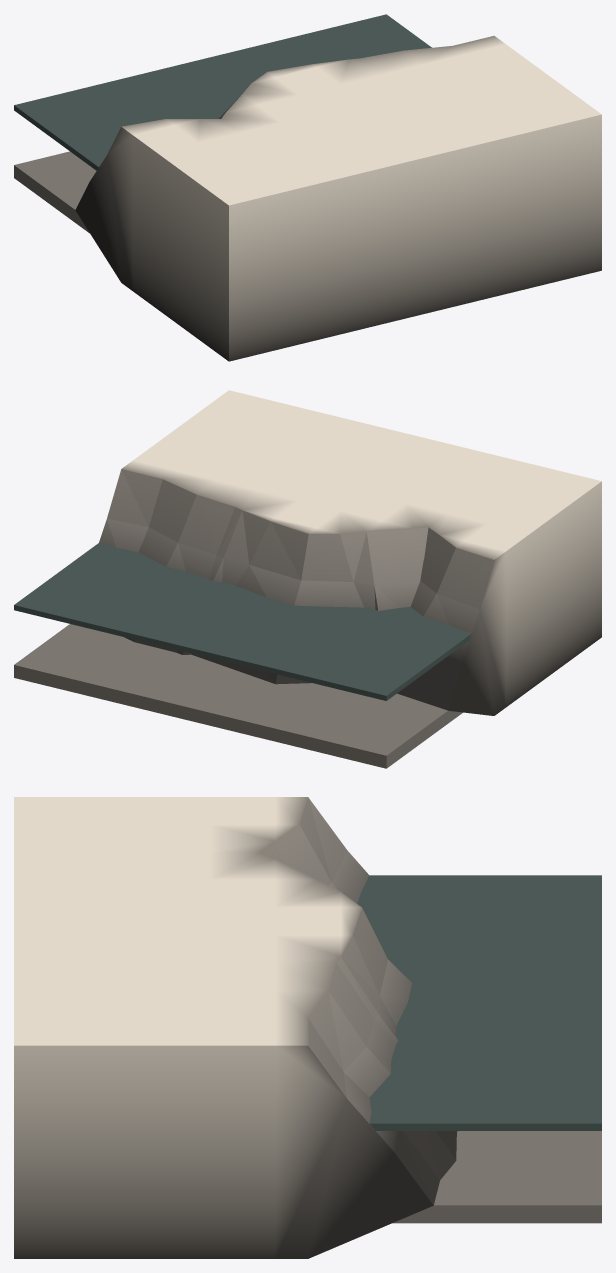
Rendered from SM_VKI_Ground_Stream_OOXX_Q01.fbx.
The picture shows the model from 3 angles, top to bottom: view 1: azimuth 30°, elevation 25°; view 2: azimuth 150°, elevation 25°; view 3: azimuth 270°, elevation 25°; orthographic projection. The views are drawn at different scales.
Visible parts, largest first — view 1: SM_VKI_Ground_Stream_OOXX_Q01.001; view 2: SM_VKI_Ground_Stream_OOXX_Q01.001; view 3: SM_VKI_Ground_Stream_OOXX_Q01.001.
Boxes of the visible parts, <box> form: SM_VKI_Ground_Stream_OOXX_Q01.001: <box>14,14,601,361</box>; SM_VKI_Ground_Stream_OOXX_Q01.001: <box>14,390,601,768</box>; SM_VKI_Ground_Stream_OOXX_Q01.001: <box>14,797,601,1258</box>.
Bounding box in the file's own units: 1.5 × 0.6 × 1.5.
